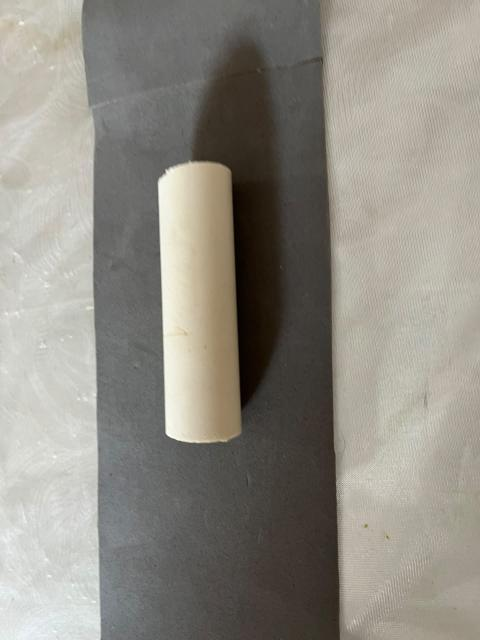PVC: (117, 130, 290, 483)
